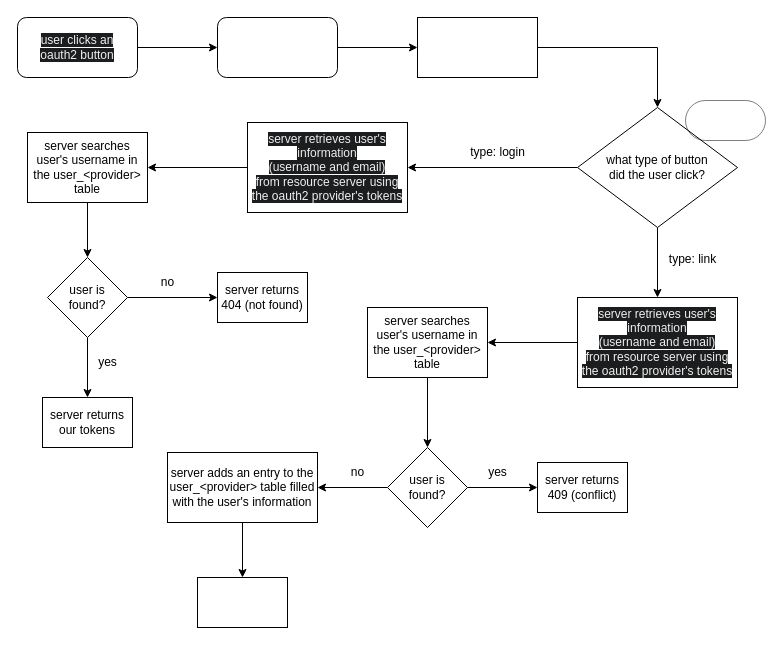
The diagram is 783 pixels wide and 645 high, and some of its shapes have lost their labels. Here are the shapes that lost their labels. From the top down, the centre of each, then its label:
At (x=277, y=47): "user authorizes our app and gets redirected to the callback endpoint".
At (x=477, y=47): "server returns oauth2 provider's tokens".
At (x=725, y=120): "performed client side".
At (x=242, y=602): "server returns 200 (ok)".
